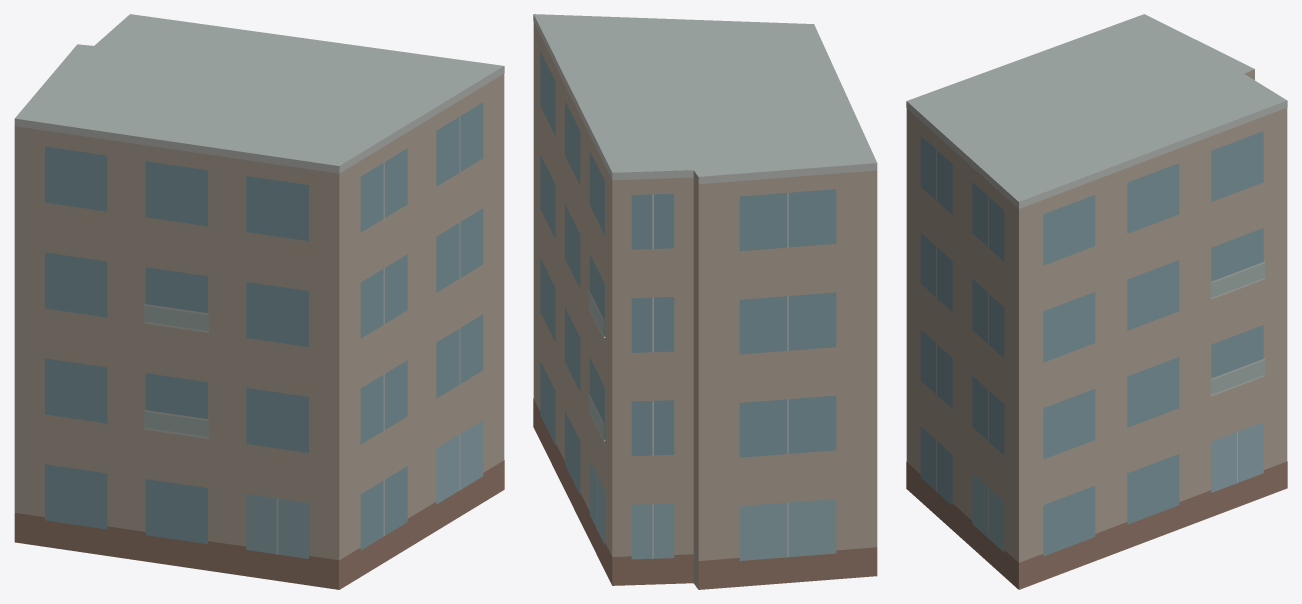
Rendered from survey-upis-32461500.glb.
3 views of the same model, side by side, from view 1: azimuth 30°, elevation 25°; view 2: azimuth 150°, elevation 25°; view 3: azimuth 270°, elevation 25° (orthographic). The views are drawn at different scales.
Visible parts, largest first — view 1: survey-upis-32461500.tmp; view 2: survey-upis-32461500.tmp; view 3: survey-upis-32461500.tmp.
Boxes of the visible parts, left/top/right/bottom form: survey-upis-32461500.tmp: left=14, top=14, right=504, bottom=589; survey-upis-32461500.tmp: left=533, top=14, right=877, bottom=589; survey-upis-32461500.tmp: left=906, top=14, right=1287, bottom=589.
Size of the model in its own units: 14.26 by 13.7 by 12.21.
